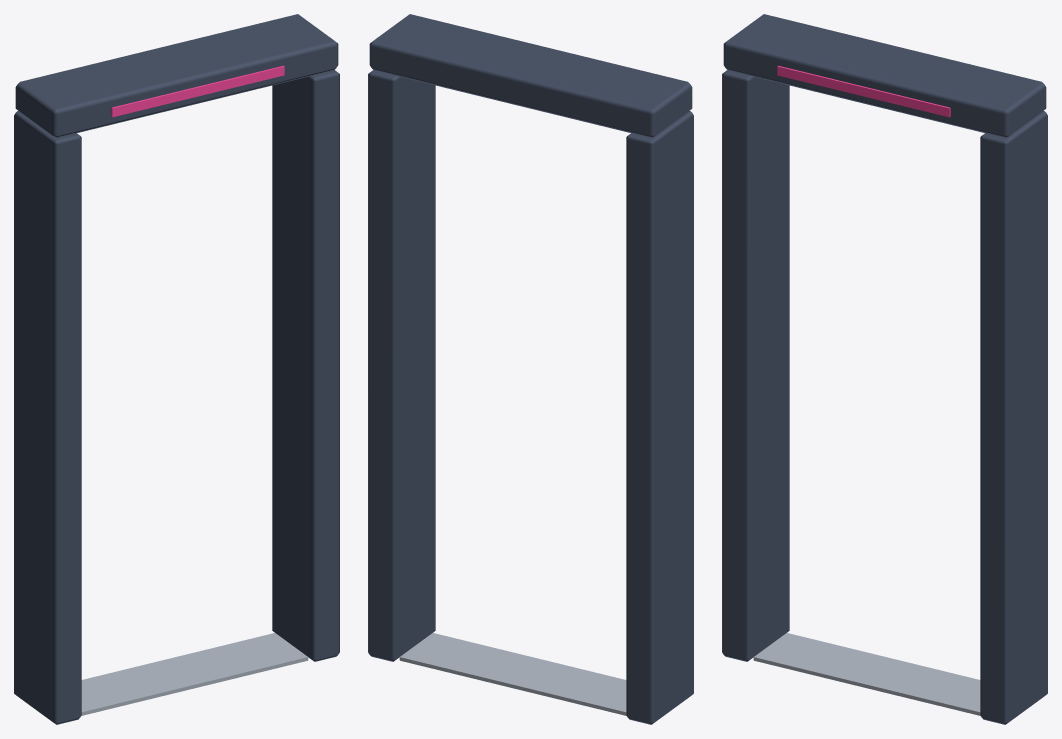
Rendered from wand_halb_tuer.glb.
3 renders of one model, left to right at view 1: azimuth 30°, elevation 25°; view 2: azimuth 150°, elevation 25°; view 3: azimuth 330°, elevation 25°, orthographic.
Parts seen in each view (by area): view 1: wand_halb_tuer; view 2: wand_halb_tuer; view 3: wand_halb_tuer.
Boxes of the visible parts, x1,y1,x2,y2 form: wand_halb_tuer: (14,14,339,724); wand_halb_tuer: (368,14,693,724); wand_halb_tuer: (722,14,1047,724).
Size of the model in its own units: 1 by 2.05 by 0.26.
